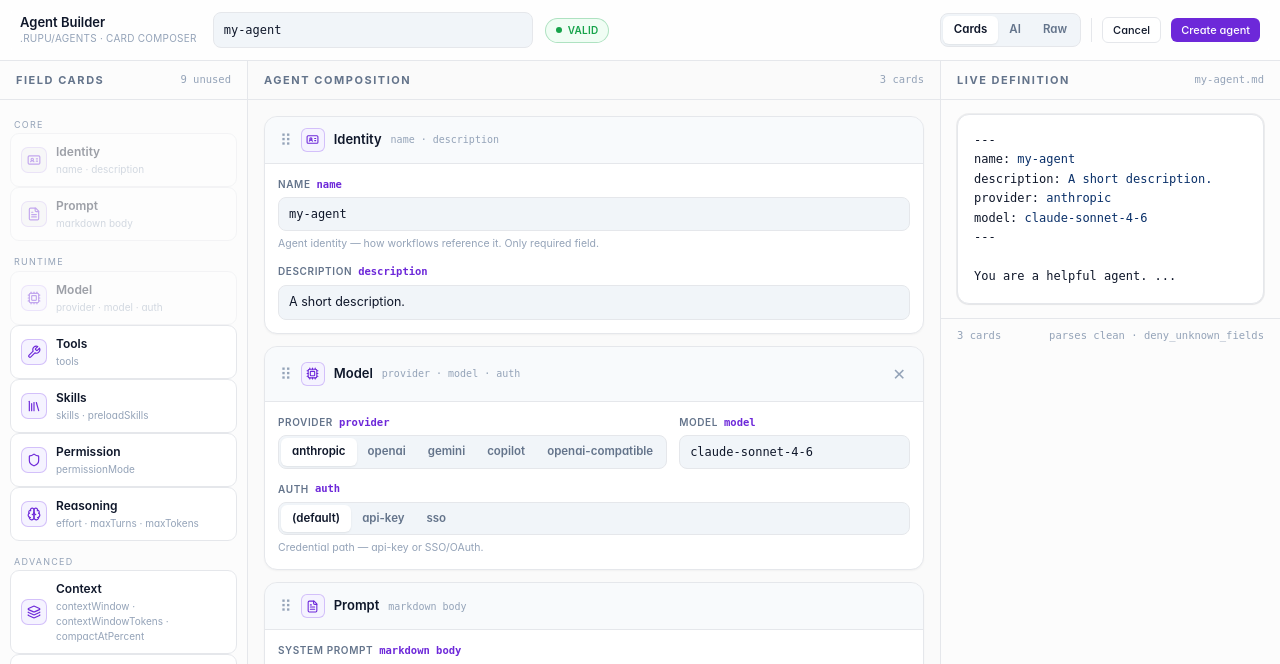
Test: AgentNew (full-page Agent Builder) › surfaces a create failure inline without navigating
This screenshot has width=1280, height=664.
Click the button "Create agent" at (1216, 30), box [1171,18,1260,42]
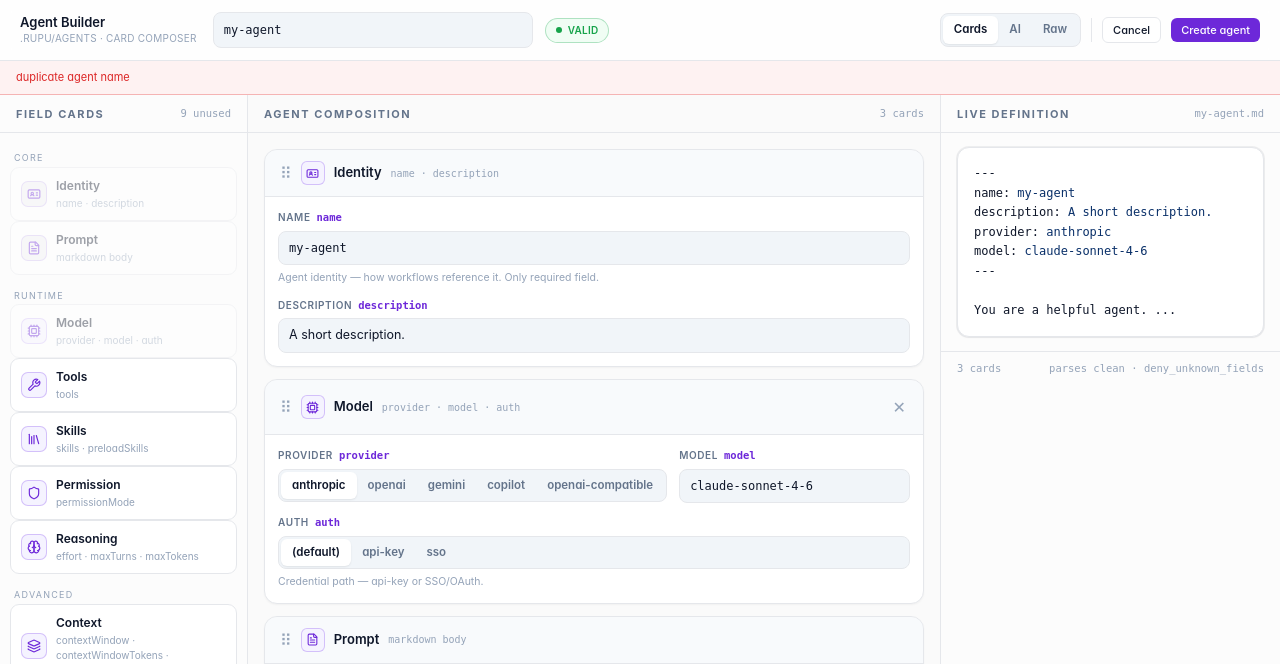
Expected: the text "duplicate agent name" is shown, [0,61,1279,94]
